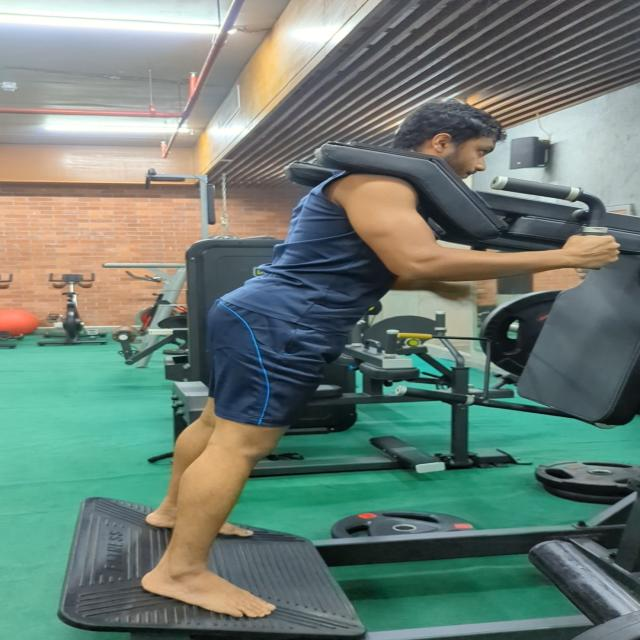Normal_SquatsWithBarbell: (120, 94, 640, 626)
